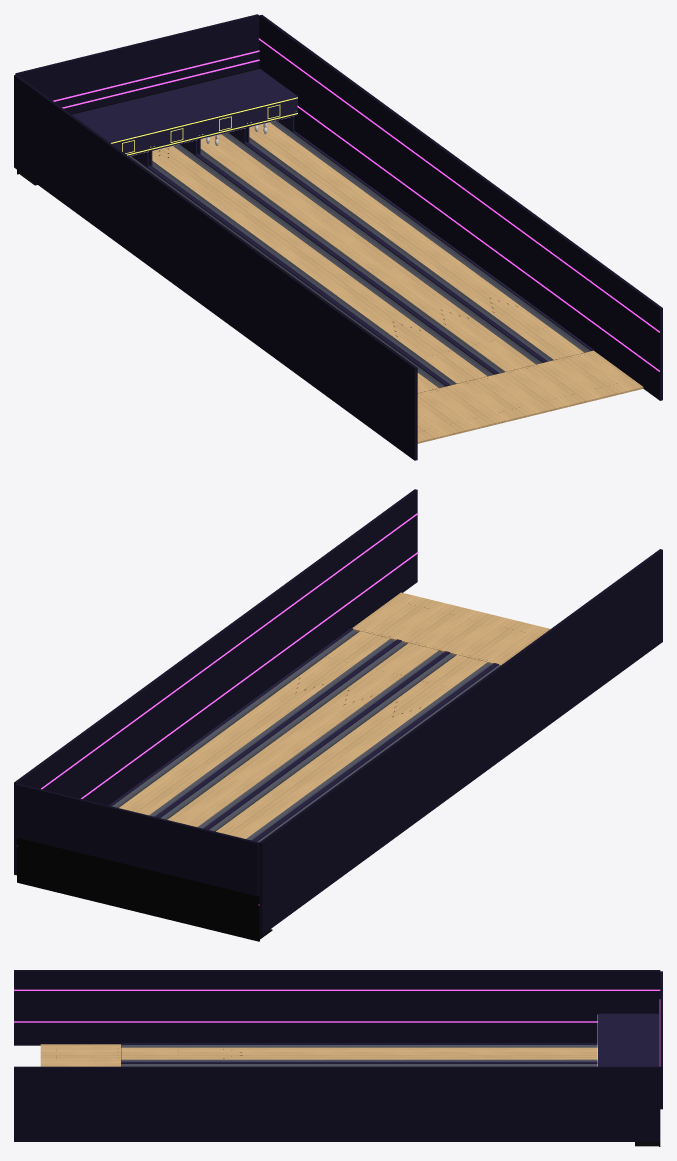
The model's file is lane.glb.
The picture shows the model from 3 angles, top to bottom: view 1: azimuth 30°, elevation 25°; view 2: azimuth 150°, elevation 25°; view 3: azimuth 270°, elevation 25°; orthographic projection. The views are drawn at different scales.
Visible parts, largest first — view 1: hall_walls, hall_wood, lane_wood, hall_gutters, hall_masking, hall_trim, gutters, hall_neon, masking, walls; view 2: hall_walls, hall_wood, lane_wood, hall_pit, hall_gutters, hall_trim, gutters, pit, hall_neon, walls; view 3: hall_walls, hall_wood, hall_gutters, hall_neon, hall_trim, hall_masking, masking.
Part boxes in pixels (x1,y1,x2,y2): hall_walls: (14, 14, 662, 460); hall_wood: (200, 122, 643, 443); lane_wood: (152, 146, 546, 424); hall_gutters: (129, 120, 590, 387); hall_masking: (72, 69, 297, 156); hall_trim: (131, 116, 593, 386); gutters: (152, 144, 493, 385); hall_neon: (53, 38, 659, 430); masking: (115, 92, 200, 150); walls: (148, 140, 496, 385); hall_walls: (14, 489, 662, 934); hall_wood: (119, 592, 550, 827); lane_wood: (216, 616, 545, 838); hall_pit: (17, 837, 272, 941); hall_gutters: (112, 629, 499, 842); hall_trim: (109, 628, 498, 841); gutters: (209, 653, 491, 840); pit: (114, 861, 162, 917); hall_neon: (17, 513, 418, 905); walls: (206, 651, 496, 840); hall_walls: (14, 970, 662, 1141); hall_wood: (40, 1044, 597, 1066); hall_gutters: (121, 1045, 597, 1066); hall_neon: (14, 989, 660, 1066); hall_trim: (121, 1043, 597, 1063); hall_masking: (598, 1013, 658, 1051); masking: (598, 1052, 658, 1066).
Bounding box in the file's own units: 8.62 × 3.32 × 24.21.
11 materials, 1 textured.
